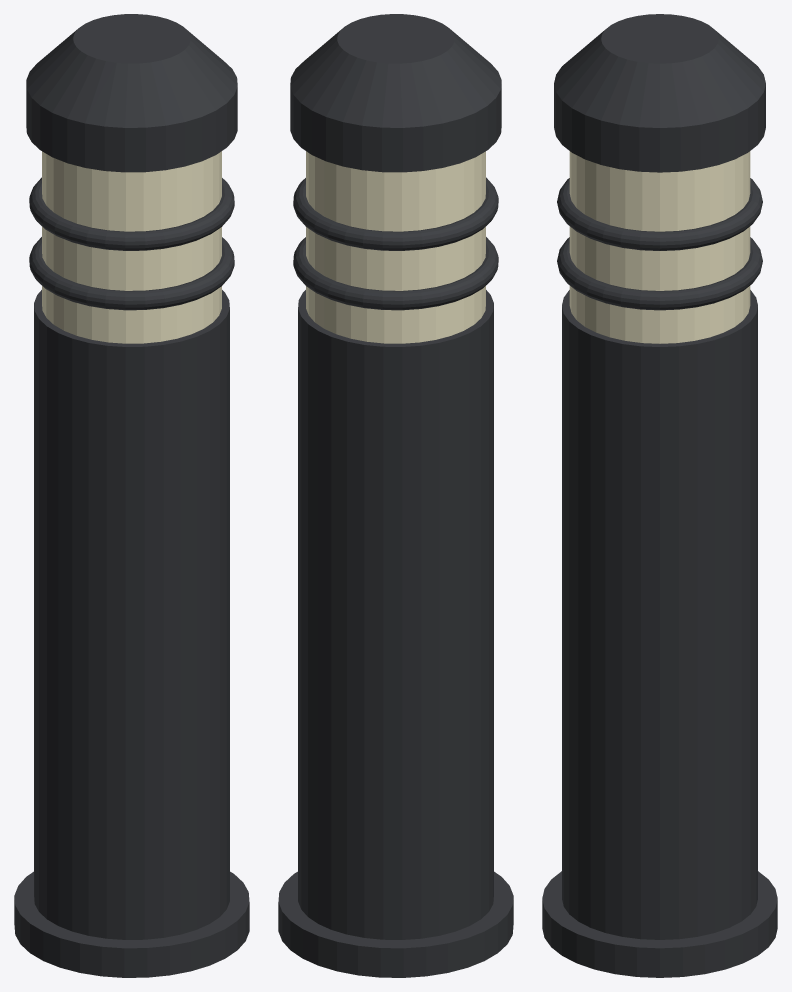
The picture shows the model from 3 angles, left to right: view 1: azimuth 30°, elevation 25°; view 2: azimuth 150°, elevation 25°; view 3: azimuth 270°, elevation 25°; orthographic projection.
Visible parts, largest first — view 1: diameter=0.12;fixtureCode=;height=0.6;lit=true;material=stee (×2); view 2: diameter=0.12;fixtureCode=;height=0.6;lit=true;material=stee (×2); view 3: diameter=0.12;fixtureCode=;height=0.6;lit=true;material=stee (×2).
Boxes of the visible parts, box(x1,y1,x2,y2) form: diameter=0.12;fixtureCode=;height=0.6;lit=true;material=stee (×2): box(14, 14, 249, 977); diameter=0.12;fixtureCode=;height=0.6;lit=true;material=stee (×2): box(278, 14, 513, 977); diameter=0.12;fixtureCode=;height=0.6;lit=true;material=stee (×2): box(542, 14, 777, 977).
Bounding box in the file's own units: 0.144 × 0.144 × 0.6.
